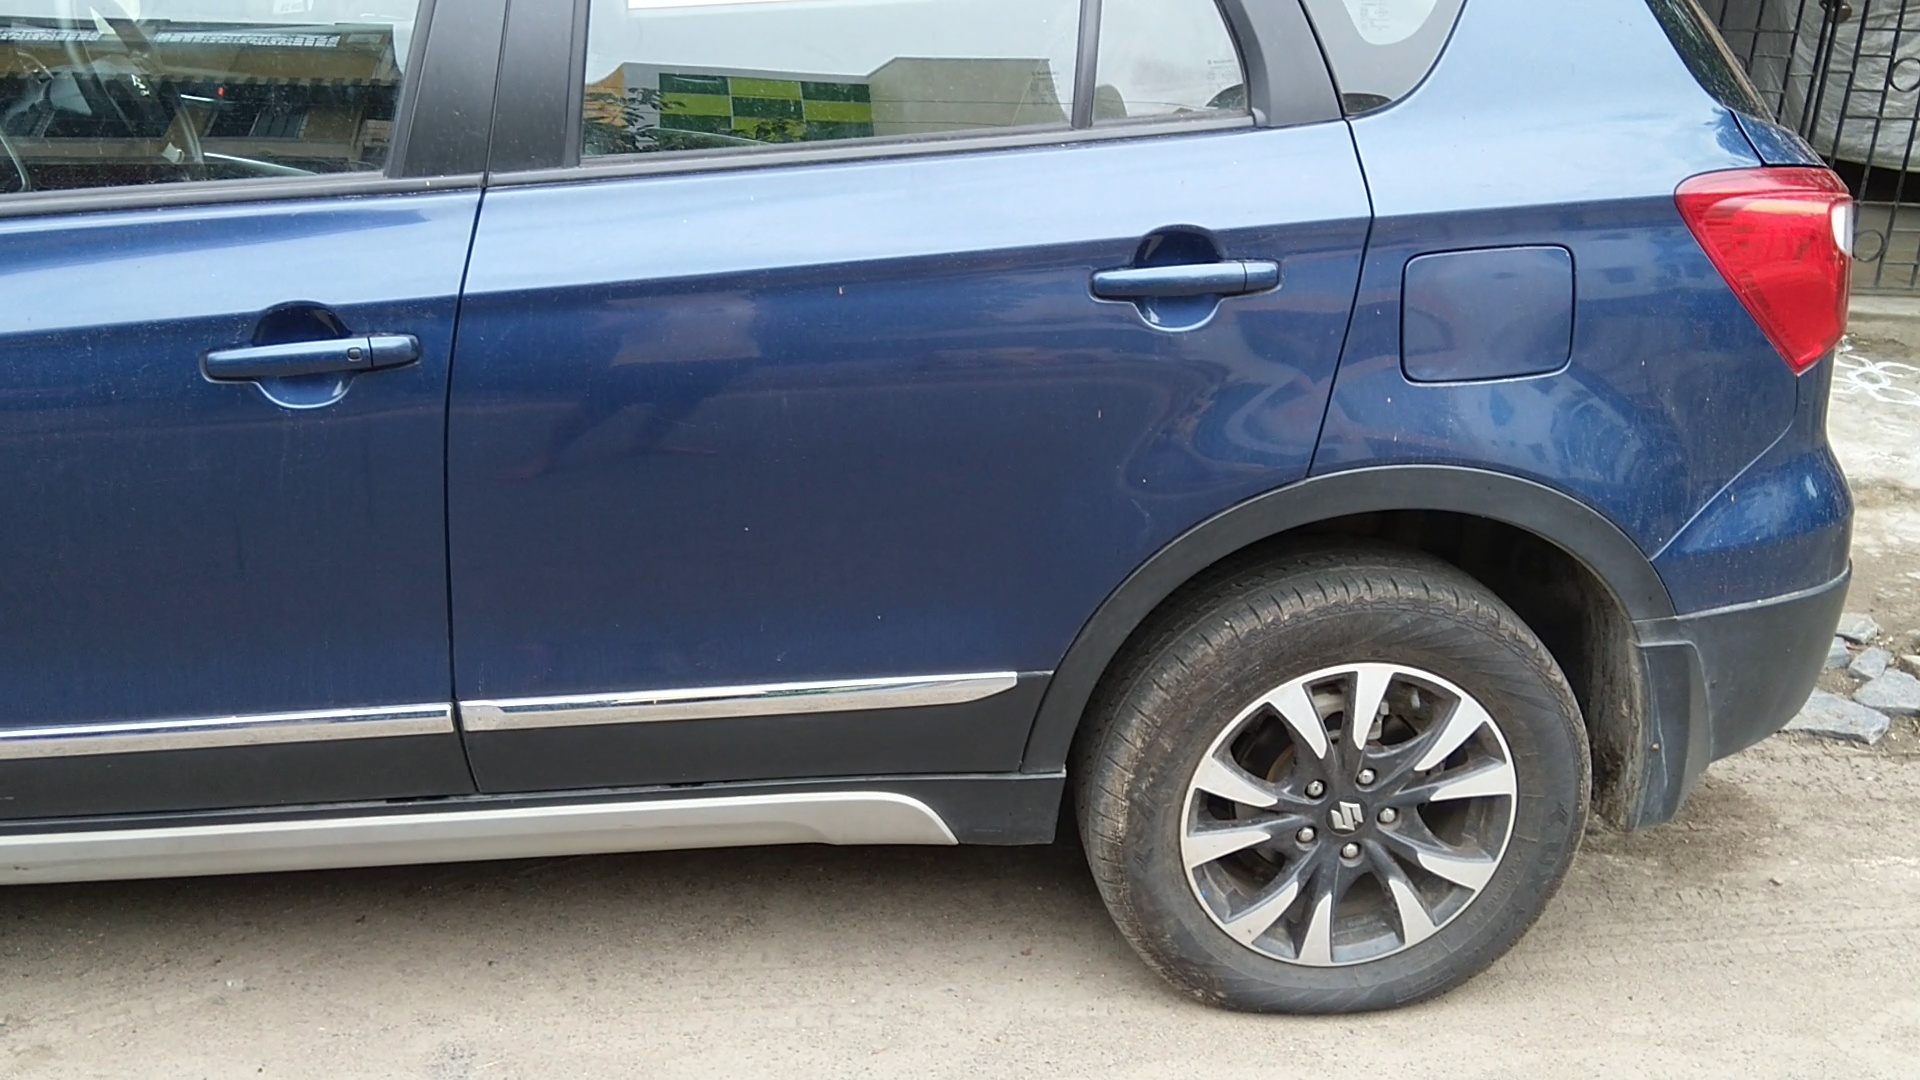alloy_wheel: (1108, 568, 1582, 1029)
